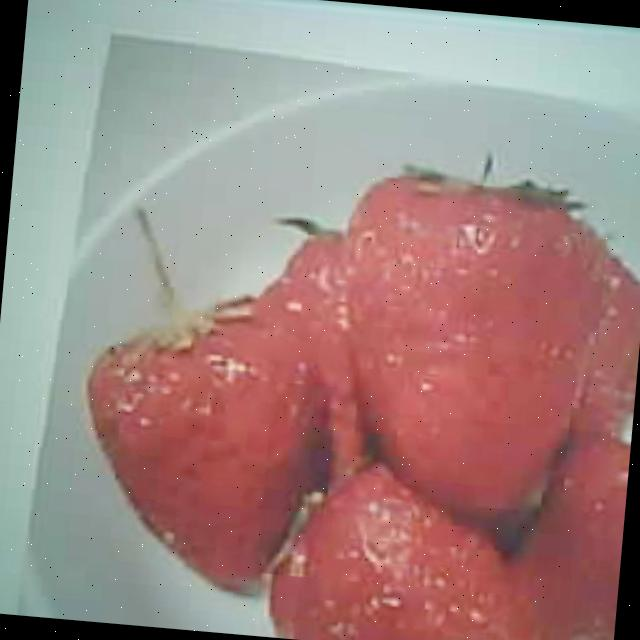strawberry: (327, 164, 604, 512), (71, 307, 318, 588)
